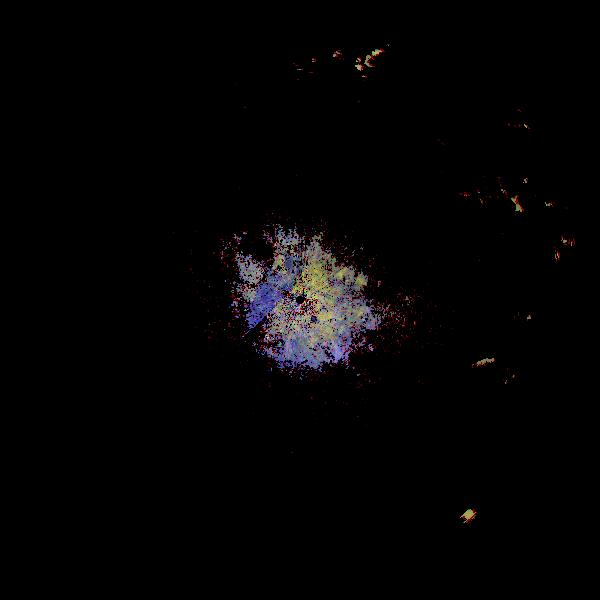roost: (441, 482, 564, 600)
